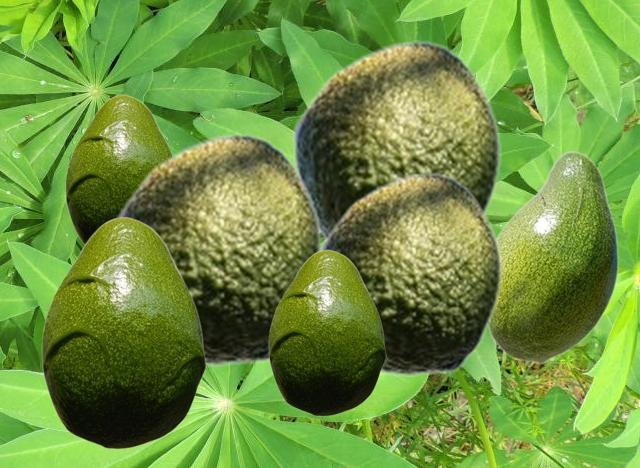avocado: (112, 133, 321, 365), (291, 40, 500, 240), (41, 216, 205, 448), (322, 172, 501, 375), (488, 150, 618, 363), (268, 249, 385, 415), (65, 94, 171, 244)
